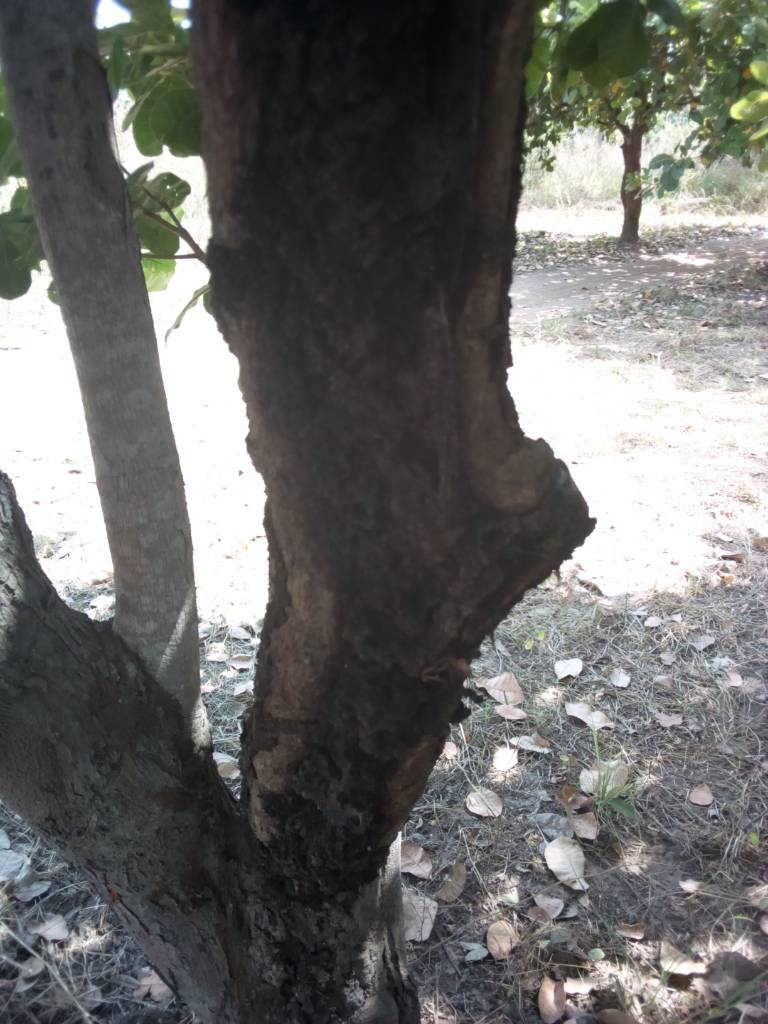Termites: (244, 10, 524, 814), (182, 860, 369, 1024)
